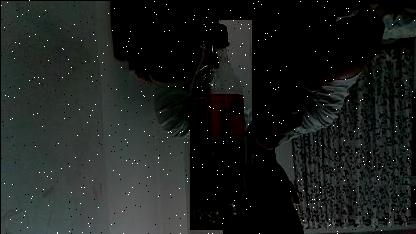Plastic Bottle: (189, 19, 251, 229)
